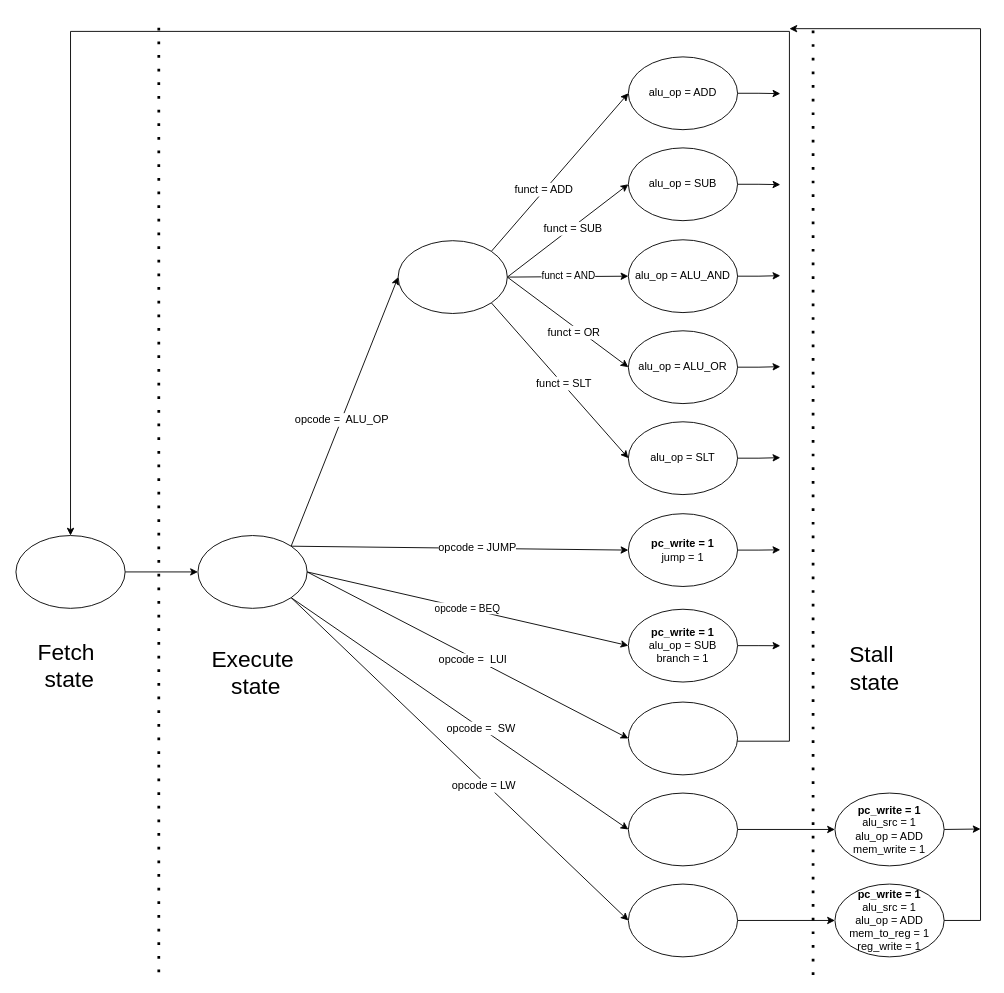
This 1004x993 diagram has some shape labels left out. The shapes that lost their labels are listed below. From the top down, each one's centre as x and y in pixels, then its label:
point 452,276: pc_write = 1 reg_write = 1 reg_dst = 1
point 682,738: pc_write = 1 alu_src = 1 imm_val_tf = SHIFT reg_write = 1
point 682,829: alu_src = 1 alu_op = ADD mem_write = 1
point 682,920: alu_src = 1 alu_op = ADD mem_to_reg = 1 reg_write = 1
